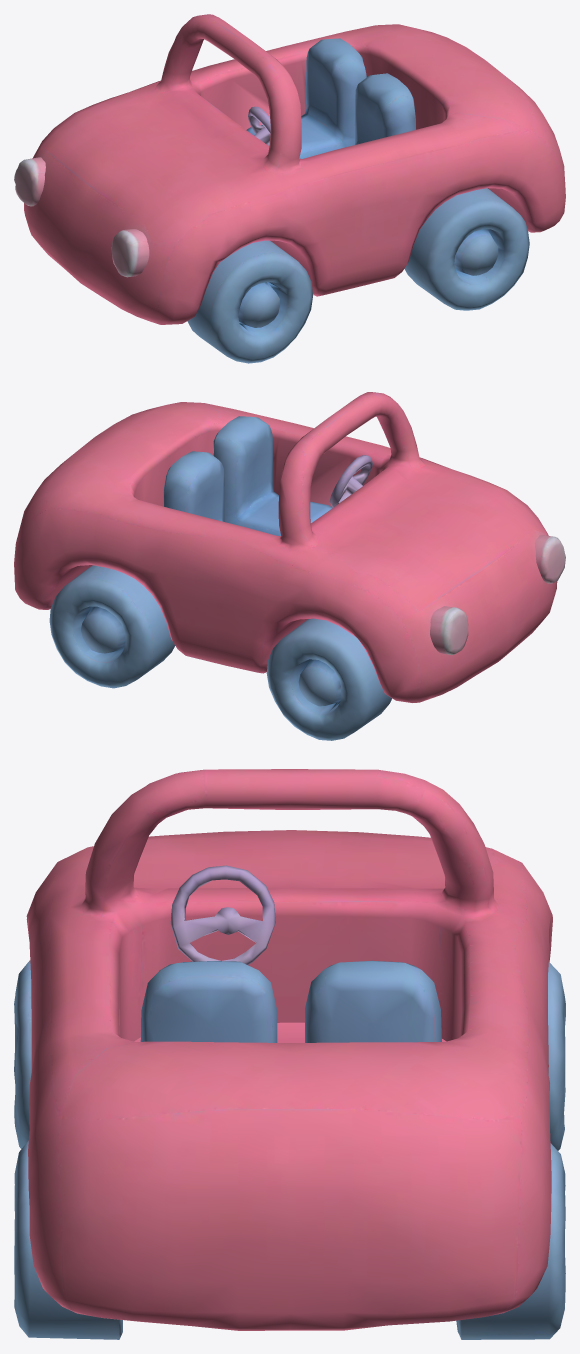
File: car.glb
The picture shows the model from 3 angles, top to bottom: view 1: azimuth 30°, elevation 25°; view 2: azimuth 150°, elevation 25°; view 3: azimuth 270°, elevation 25°; orthographic projection. The views are drawn at different scales.
Visible parts, largest first — view 1: geometry_0; view 2: geometry_0; view 3: geometry_0.
Part boxes in pixels (x1,y1,x2,y2): geometry_0: (14, 14, 565, 363); geometry_0: (14, 392, 565, 740); geometry_0: (14, 769, 565, 1339).
Size of the model in its own units: 1 by 0.5474 by 0.6389.
1 material, 1 textured.
